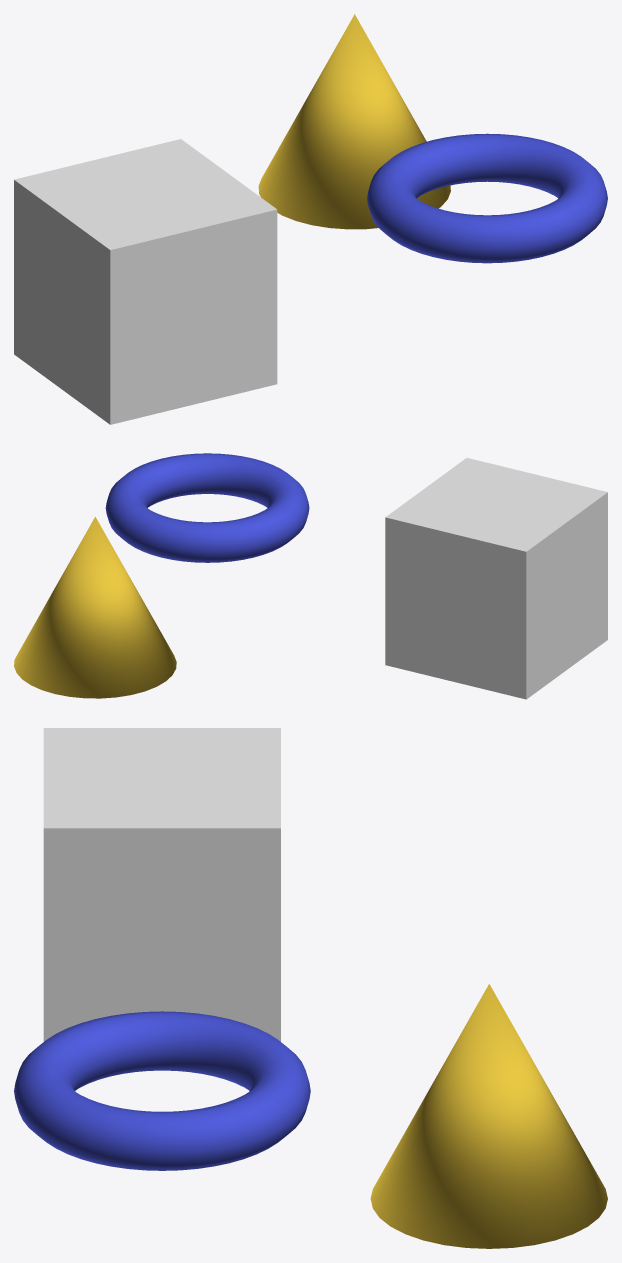
3 views of the same model, one above another, from view 1: azimuth 30°, elevation 25°; view 2: azimuth 150°, elevation 25°; view 3: azimuth 270°, elevation 25° (orthographic). The views are drawn at different scales.
Visible parts, largest first — view 1: Cube, Torus, Cone; view 2: Cube, Cone, Torus; view 3: Cube, Cone, Torus.
Part boxes in pixels (left/top/right/bottom): Cube: left=14, top=139, right=277, bottom=424; Torus: left=367, top=133, right=607, bottom=263; Cone: left=258, top=14, right=450, bottom=229; Cube: left=385, top=458, right=607, bottom=699; Cone: left=14, top=516, right=176, bottom=698; Torus: left=105, top=453, right=309, bottom=562; Cube: left=43, top=728, right=280, bottom=1041; Cone: left=370, top=984, right=607, bottom=1248; Torus: left=14, top=1011, right=310, bottom=1170.
Bounding box in the file's own units: 6.34 × 5 × 2.
